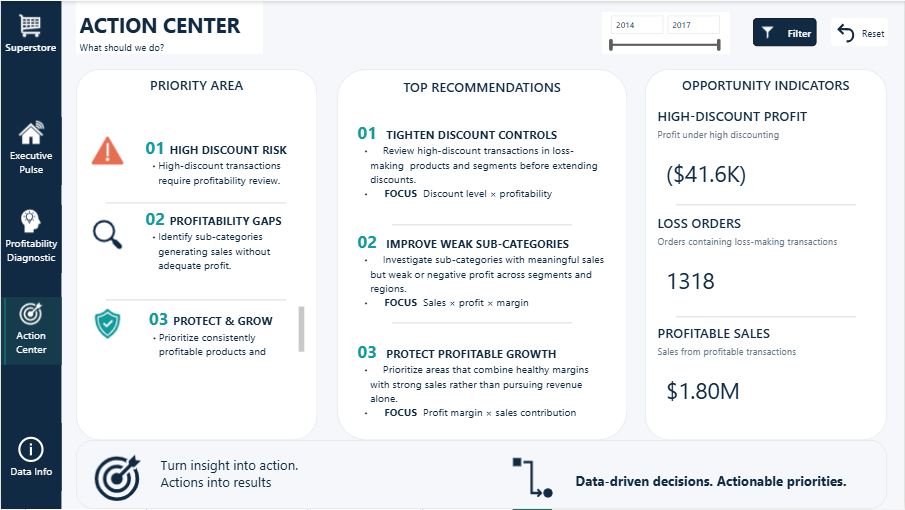

The dashboard page shown, as its layout file describes it:
{"tool":"powerbi","page":{"name":"Action Center","canvas":[1280,720],"ordinal":2},"visuals":[{"type":"shape","box":[0,0,85.7,720.6],"z":0},{"type":"actionButton","box":[0,0,84.3,91.1],"z":1000},{"type":"actionButton","box":[0,164.6,85.7,95.7],"z":2000},{"type":"shape","box":[0,288.9,11.8,95.7],"z":3000},{"type":"actionButton","box":[0,288.9,85.7,95.7],"z":4000},{"type":"actionButton","box":[0,419.9,85.7,95.7],"z":5000},{"type":"actionButton","box":[0,598,85.7,95.7],"z":6000},{"type":"shape","box":[0,421.4,11.5,94.6],"z":7000},{"type":"textbox","title":"ACTION CENTER","box":[106.1,0,265.2,74.5],"z":8000},{"type":"slicer","fields":{"Values":["Date.Year"]},"box":[851.7,15.1,181.4,58.8],"z":9000},{"type":"actionButton","box":[1066.4,24.3,90,40.4],"z":10000},{"type":"actionButton","box":[1175.7,24.3,80.7,40.4],"z":11000},{"type":"shape","title":"PRIORITY AREA","box":[106.2,96,342,526.1],"z":12000},{"type":"shape","box":[476.4,96,411.2,526.1],"z":14000},{"type":"shape","box":[913.3,96,342.7,526.1],"z":15000},{"type":"textbox","box":[200.5,185.1,234.8,89.1],"z":16000},{"type":"actionButton","box":[121.7,183.3,63.4,58.3],"z":17000},{"type":"textbox","box":[200.5,286.2,234.8,108],"z":18000},{"type":"textbox","box":[200.5,428.4,234.8,87.4],"z":19000},{"type":"actionButton","box":[121.7,301.6,63.4,58.3],"z":20000},{"type":"actionButton","box":[121.7,428.4,63.4,58.3],"z":21000},{"type":"textbox","box":[500.3,164.5,361.6,154.2],"z":22000},{"type":"textbox","box":[500.3,318.7,361.6,149.1],"z":23000},{"type":"textbox","box":[500.3,474.6,361.6,123.4],"z":24000},{"type":"cardVisual","title":"HIGH-DISCOUNT PROFIT","fields":{"Data":["Key measures.High Discount Profit"]},"box":[925.3,150.8,317,150.8],"z":25000},{"type":"cardVisual","title":"LOSS ORDERS","fields":{"Data":["Key measures.Loss_orders"]},"box":[925.3,301.6,317,155.9],"z":26000},{"type":"cardVisual","title":"PROFITABLE SALES","fields":{"Data":["Key measures.Profitable_sales"]},"box":[925.3,457.5,317,155.9],"z":27000},{"type":"shape","box":[149.1,135.4,255.3,299.9],"z":28000},{"type":"shape","box":[149.1,274.2,255.3,299.9],"z":29000},{"type":"shape","box":[553.5,306.7,255.3,299.9],"z":30000},{"type":"shape","box":[553.5,167.9,255.3,299.9],"z":31000},{"type":"shape","box":[956.1,138.8,255.3,299.9],"z":32000},{"type":"shape","box":[956.1,298.2,255.3,299.9],"z":33000},{"type":"shape","box":[106.2,622,1149.8,97.7],"z":34000},{"type":"actionButton","box":[121.7,632.3,99.4,87.4],"z":35000},{"type":"textbox","box":[221,639.1,299.9,75.4],"z":36000},{"type":"textbox","box":[808.8,644.3,407.8,75.4],"z":37000},{"type":"actionButton","box":[709.4,632.3,99.4,87.4],"z":38000}]}

Visuals, with their boxes in screenshot pixels (x1, y1, x2, y2), scaled from the page's 1280x720 canvas onto the 905x510 screenshot:
shape: l=0, t=0, r=61, b=509
actionButton: l=0, t=0, r=60, b=65
actionButton: l=0, t=117, r=61, b=184
shape: l=0, t=205, r=8, b=272
actionButton: l=0, t=205, r=61, b=272
actionButton: l=0, t=297, r=61, b=365
actionButton: l=0, t=424, r=61, b=491
shape: l=0, t=298, r=8, b=366
"ACTION CENTER" textbox: l=75, t=0, r=263, b=53
slicer - Date.Year: l=602, t=11, r=730, b=52
actionButton: l=754, t=17, r=818, b=46
actionButton: l=831, t=17, r=888, b=46
"PRIORITY AREA" shape: l=75, t=68, r=317, b=441
shape: l=337, t=68, r=628, b=441
shape: l=646, t=68, r=888, b=441
textbox: l=142, t=131, r=308, b=194
actionButton: l=86, t=130, r=131, b=171
textbox: l=142, t=203, r=308, b=279
textbox: l=142, t=303, r=308, b=365
actionButton: l=86, t=214, r=131, b=255
actionButton: l=86, t=303, r=131, b=345
textbox: l=354, t=117, r=609, b=226
textbox: l=354, t=226, r=609, b=331
textbox: l=354, t=336, r=609, b=424
"HIGH-DISCOUNT PROFIT" cardVisual: l=654, t=107, r=878, b=214
"LOSS ORDERS" cardVisual: l=654, t=214, r=878, b=324
"PROFITABLE SALES" cardVisual: l=654, t=324, r=878, b=434
shape: l=105, t=96, r=286, b=308
shape: l=105, t=194, r=286, b=407
shape: l=391, t=217, r=572, b=430
shape: l=391, t=119, r=572, b=331
shape: l=676, t=98, r=856, b=311
shape: l=676, t=211, r=856, b=424
shape: l=75, t=441, r=888, b=509
actionButton: l=86, t=448, r=156, b=509
textbox: l=156, t=453, r=368, b=506
textbox: l=572, t=456, r=860, b=509
actionButton: l=502, t=448, r=572, b=509
